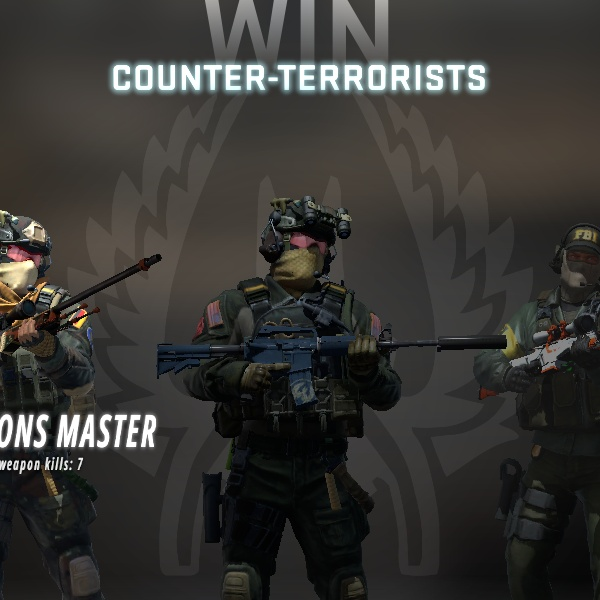ct_body: (125, 173, 479, 598)
ct_head: (249, 184, 366, 299)
